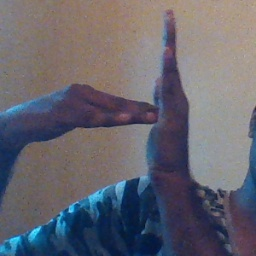Z: (102, 5, 200, 186)
